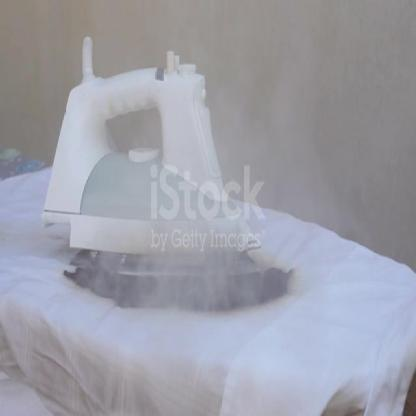smoke: (61, 0, 352, 410)
